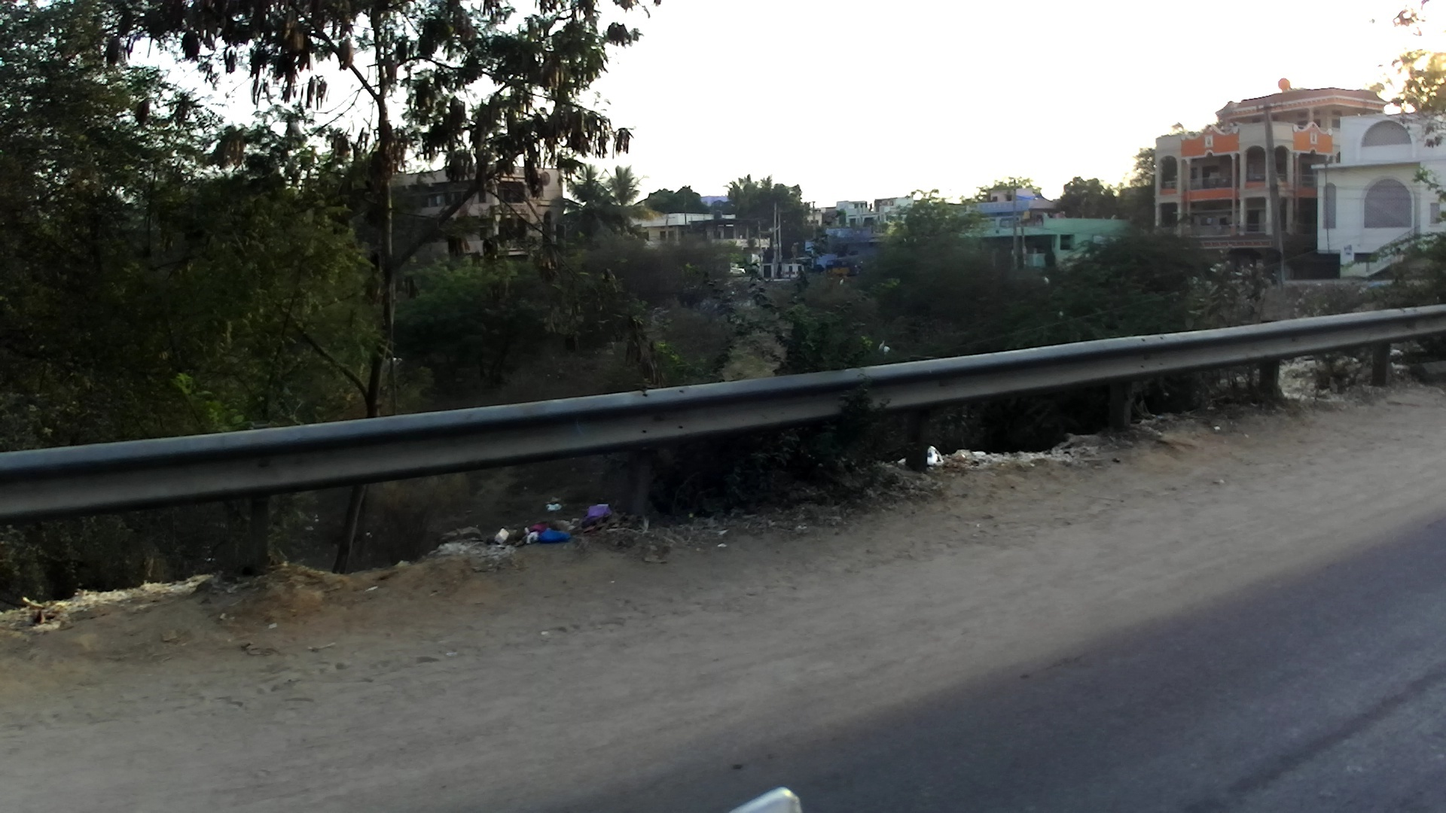motorcycle: (851, 259, 868, 273)
vehicle fallback: (824, 257, 859, 276)
